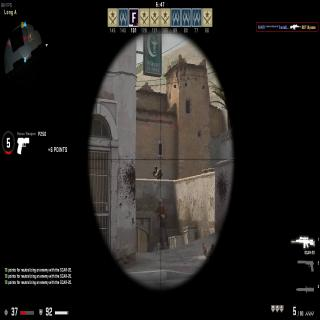CT-Body: (156, 199, 167, 248)
CT-Head: (158, 198, 162, 206)
T-Body: (154, 165, 161, 180)
T-Head: (154, 165, 158, 171)
